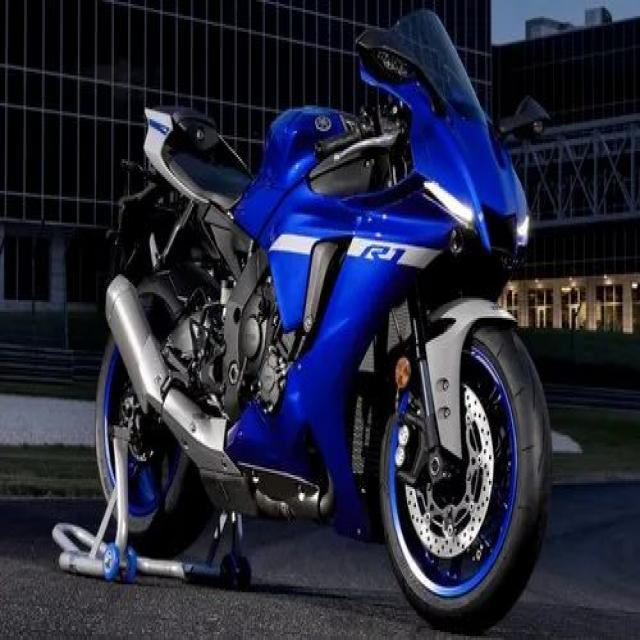Bike: (54, 11, 555, 608)
